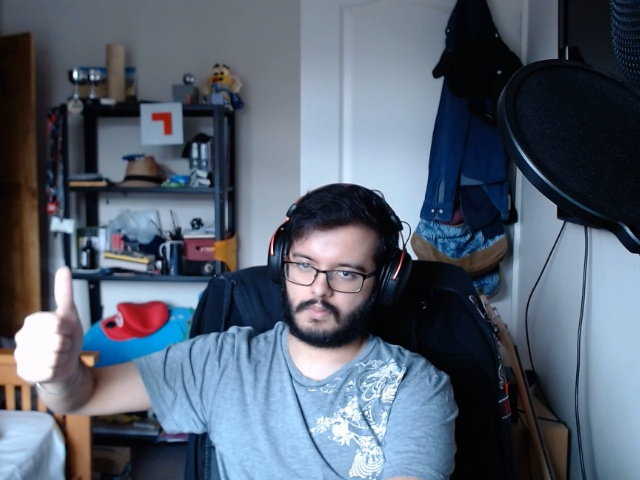Thumbs up: (11, 256, 90, 406)
